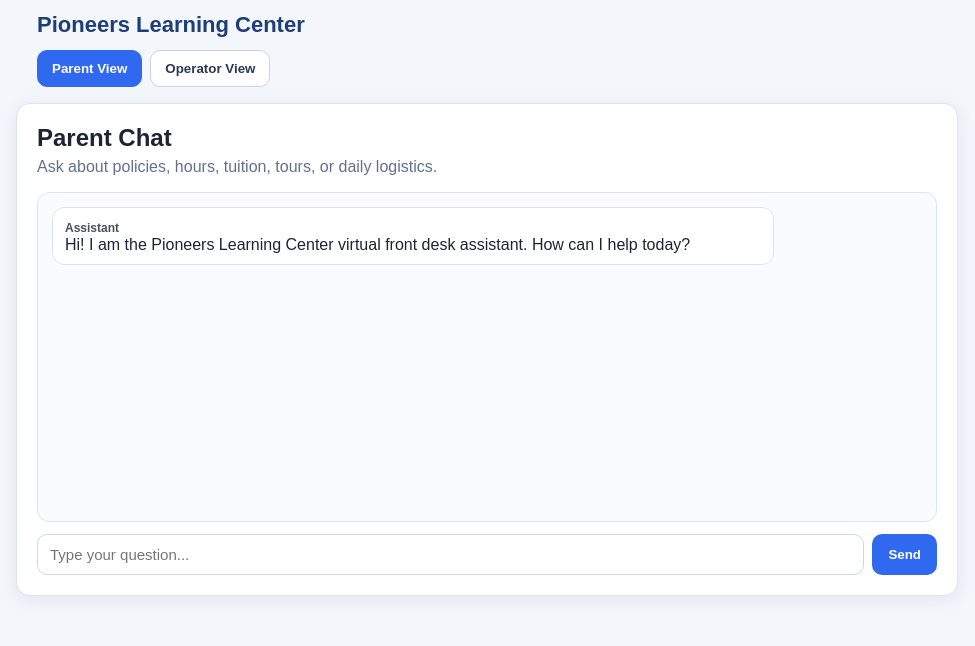
Test case: ParentView › shows error text when fetch fails and displays fallback
This screenshot has width=975, height=646.
Type "What are your hours?" into the field with placeholder "Type your question..." at x=451, y=554, box x1=37 y1=534 x2=864 y2=575
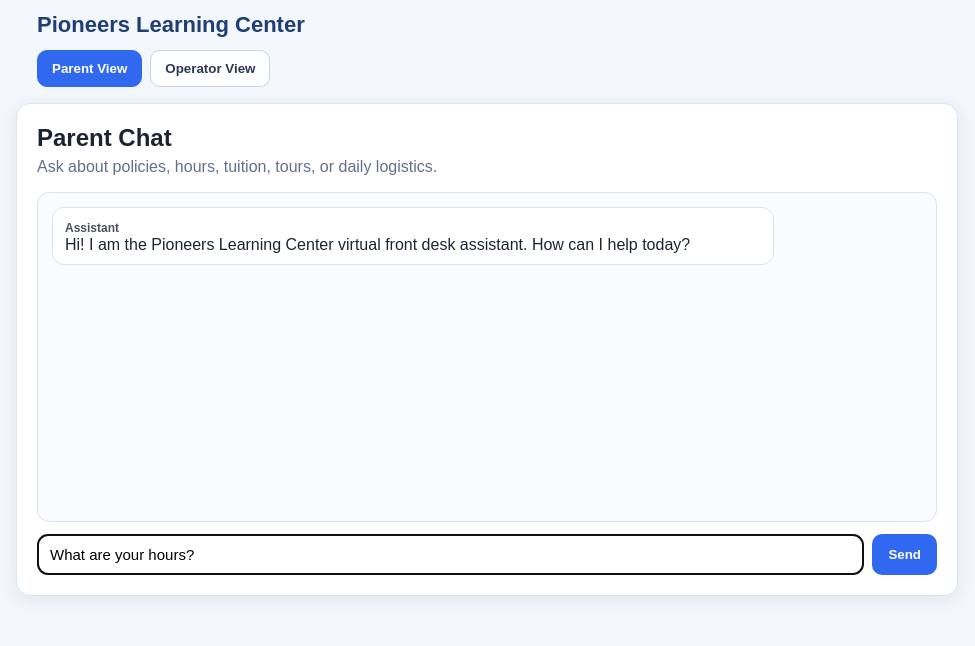
Submit the form with placeholder "type your question", box x1=37 y1=534 x2=937 y2=575
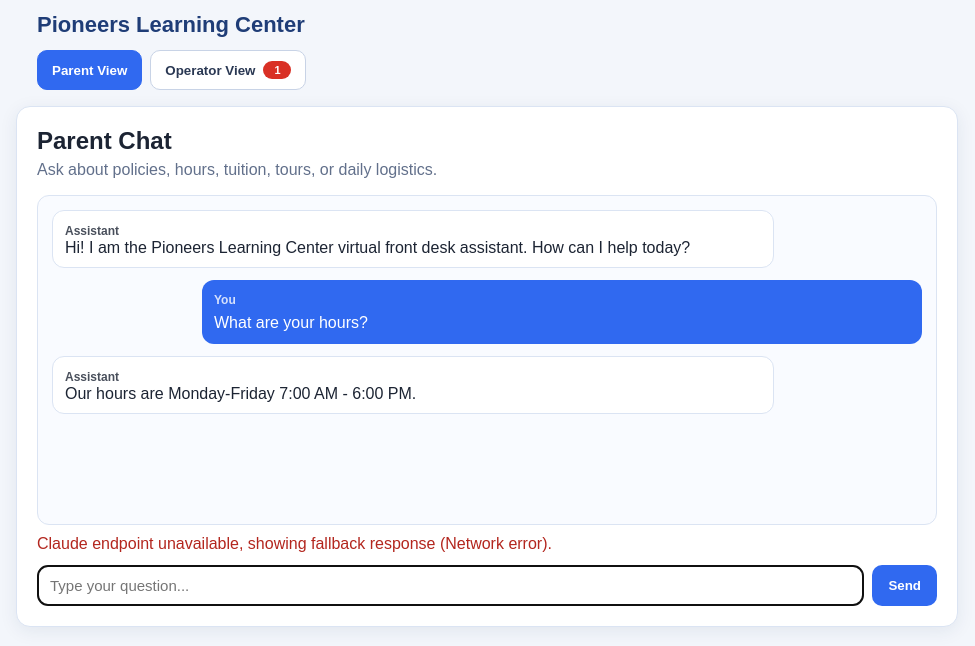
Now the text "Claude endpoint unavailable" is shown, box x1=37 y1=535 x2=552 y2=552
Now the text "Our hours are Monday-Friday 7:00 AM - 6:00 PM." is shown, box x1=65 y1=385 x2=416 y2=402
